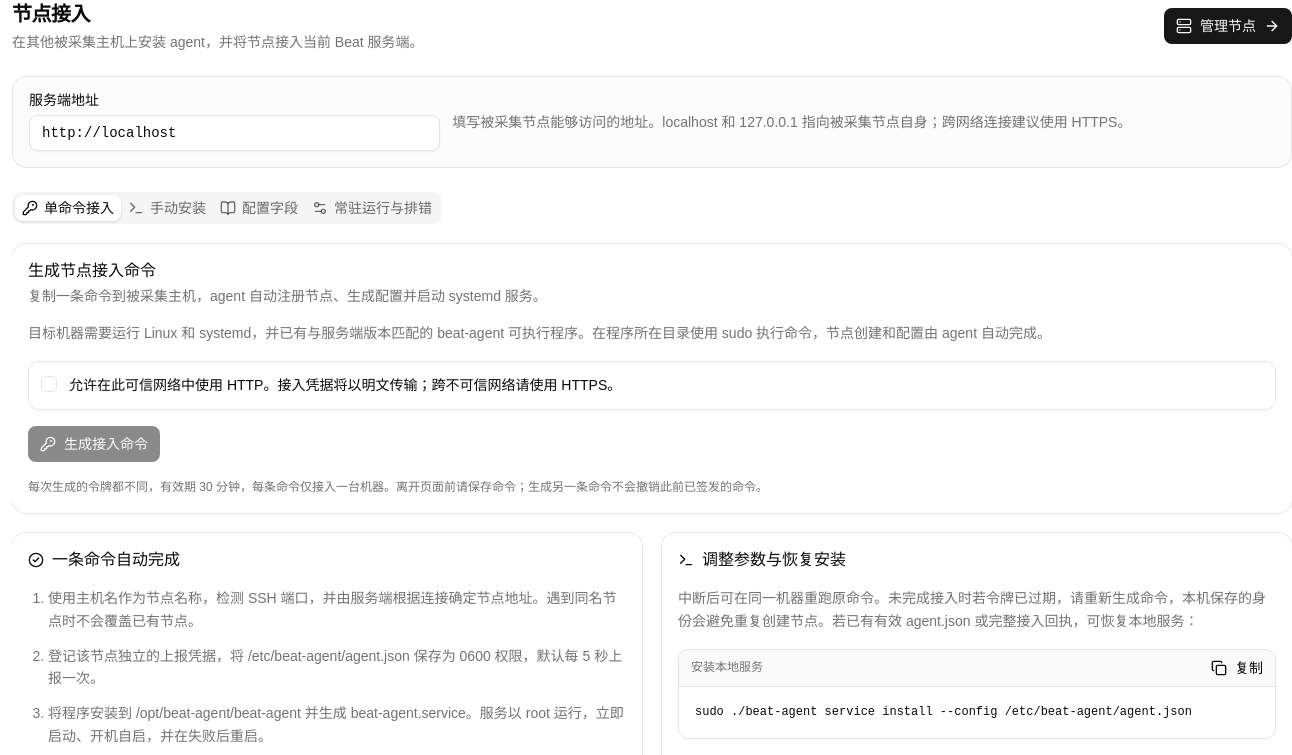
agent setup guide › renders the guide and reference in Chinese
The image size is (1292, 755).
What coordinates should you click on to do the following:
click the tab "手动安装"
I would click on:
 (167, 208)
Its box is top-left (121, 195), bottom-right (213, 221).
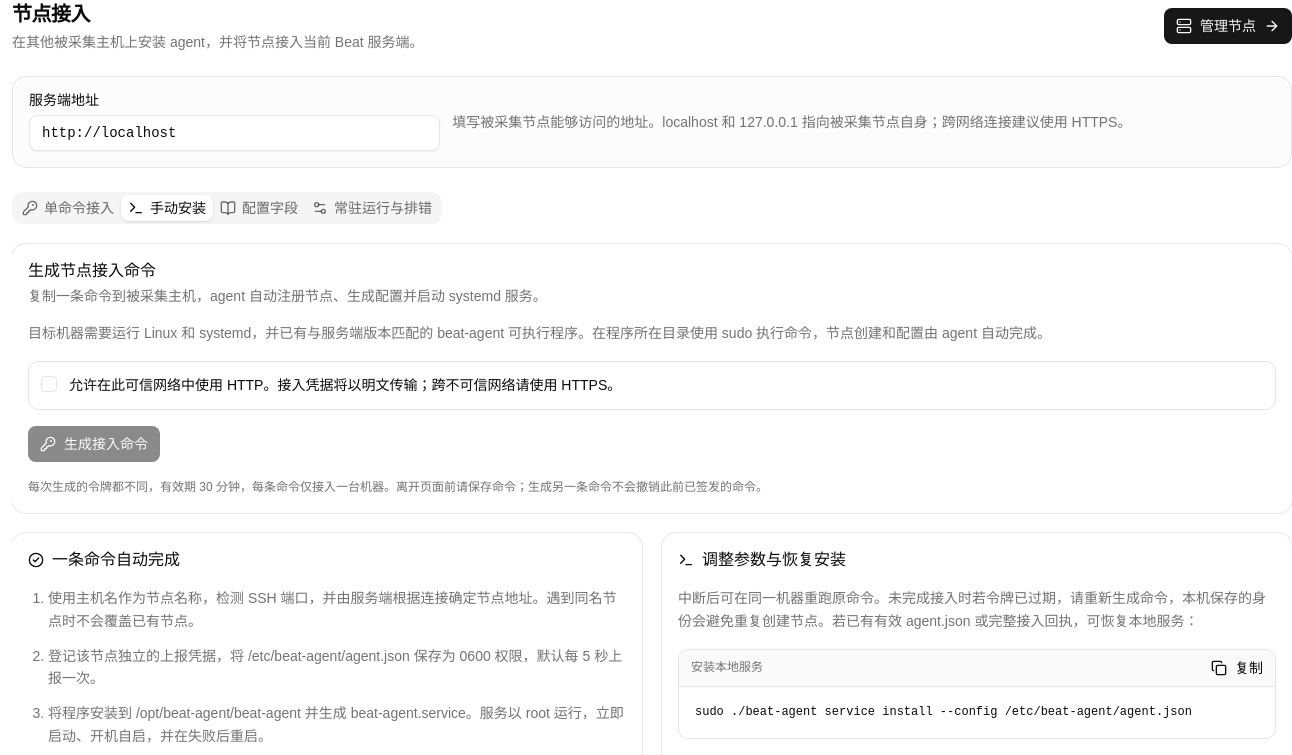
Expected: the heading "节点接入" is shown, top-left (12, 3), bottom-right (90, 25)
Expected: the link "管理节点" is shown, top-left (1164, 8), bottom-right (1291, 44)
What coordinates should you click on to do the following:
click the tab "配置字段"
I would click on:
 (259, 208)
Its box is top-left (213, 195), bottom-right (305, 221).
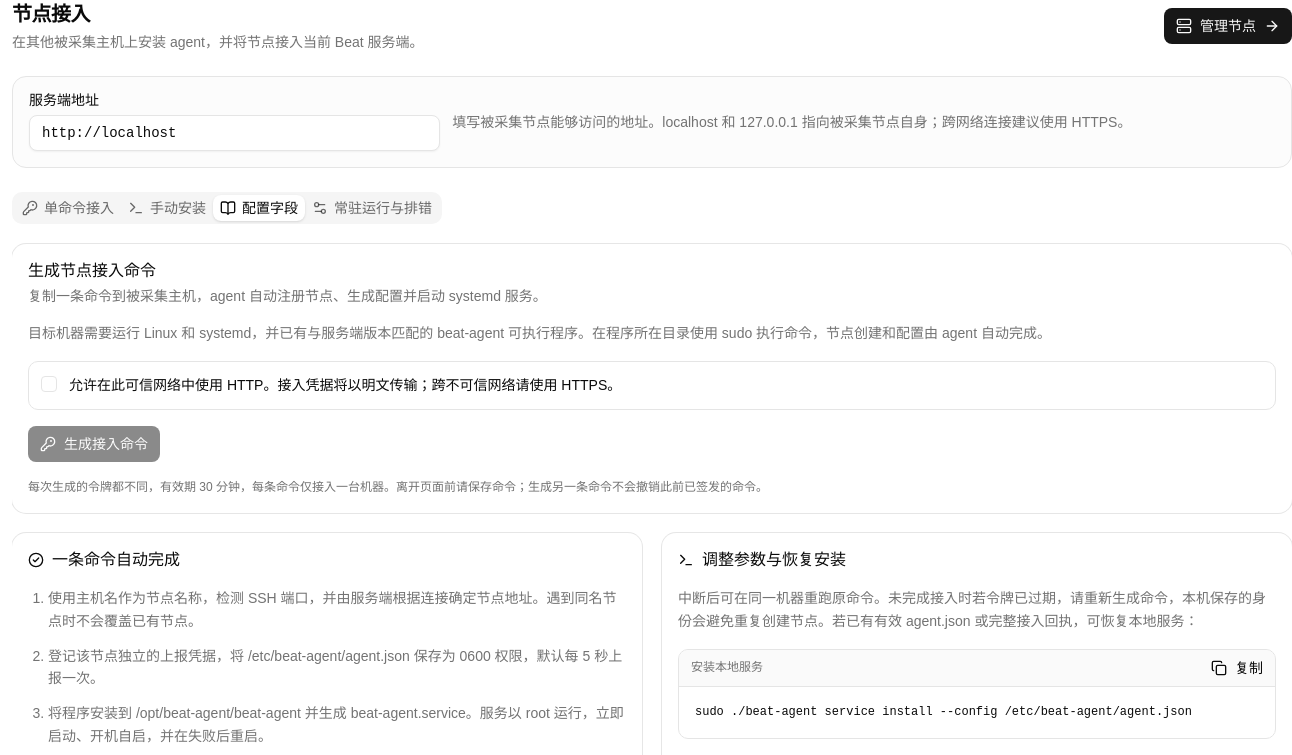
What coordinates should you click on to do the following:
click the tab "常驻运行与排错"
I would click on:
 (372, 208)
Its box is top-left (305, 195), bottom-right (439, 221).
(page scrolled)
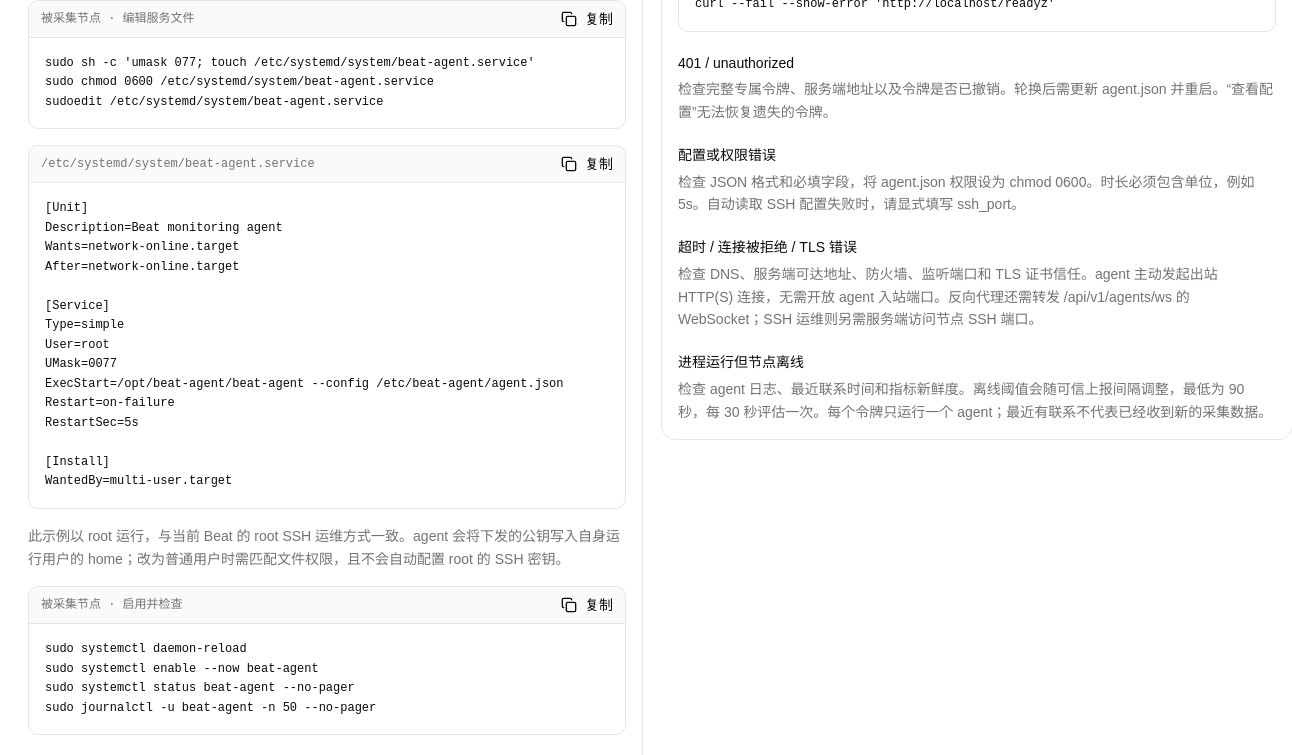
Result: the text "最低为 90 秒" is shown at top-left (678, 381), bottom-right (1272, 420)
